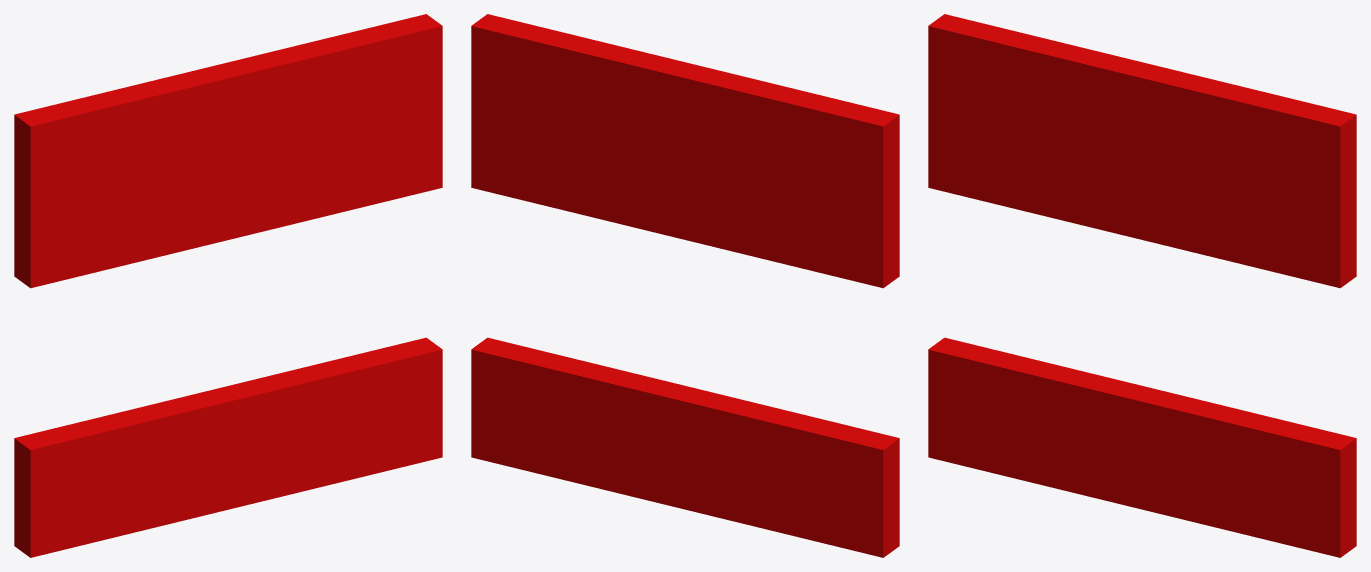
File: SM_OutsideWallDoubleWindowCollider.fbx
3 views of the same model, side by side, from view 1: azimuth 30°, elevation 25°; view 2: azimuth 150°, elevation 25°; view 3: azimuth 330°, elevation 25° (orthographic).
Parts seen in each view (by area): view 1: OutsideWallDoubleWindowCollision; view 2: OutsideWallDoubleWindowCollision; view 3: OutsideWallDoubleWindowCollision.
Boxes of the visible parts, x1,y1,x2,y2 form: OutsideWallDoubleWindowCollision: [14, 14, 442, 557]; OutsideWallDoubleWindowCollision: [471, 14, 899, 557]; OutsideWallDoubleWindowCollision: [928, 14, 1356, 557].
Size of the model in its own units: 400 by 400 by 27.5.
